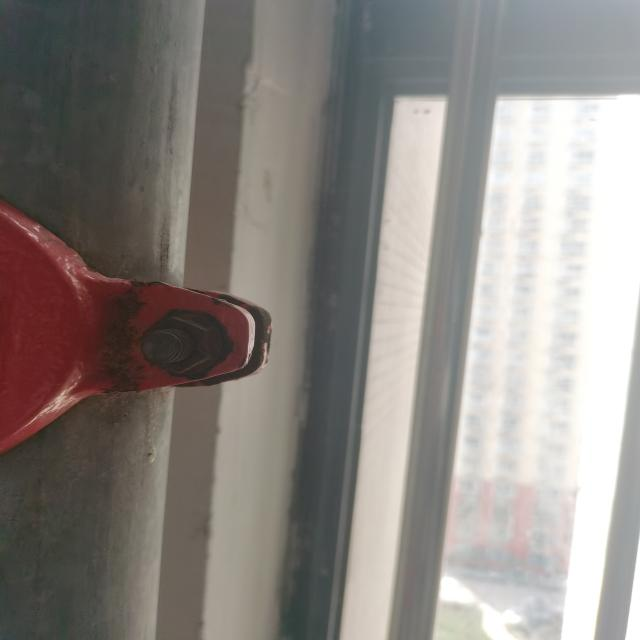bolt nut: (136, 310, 225, 380)
